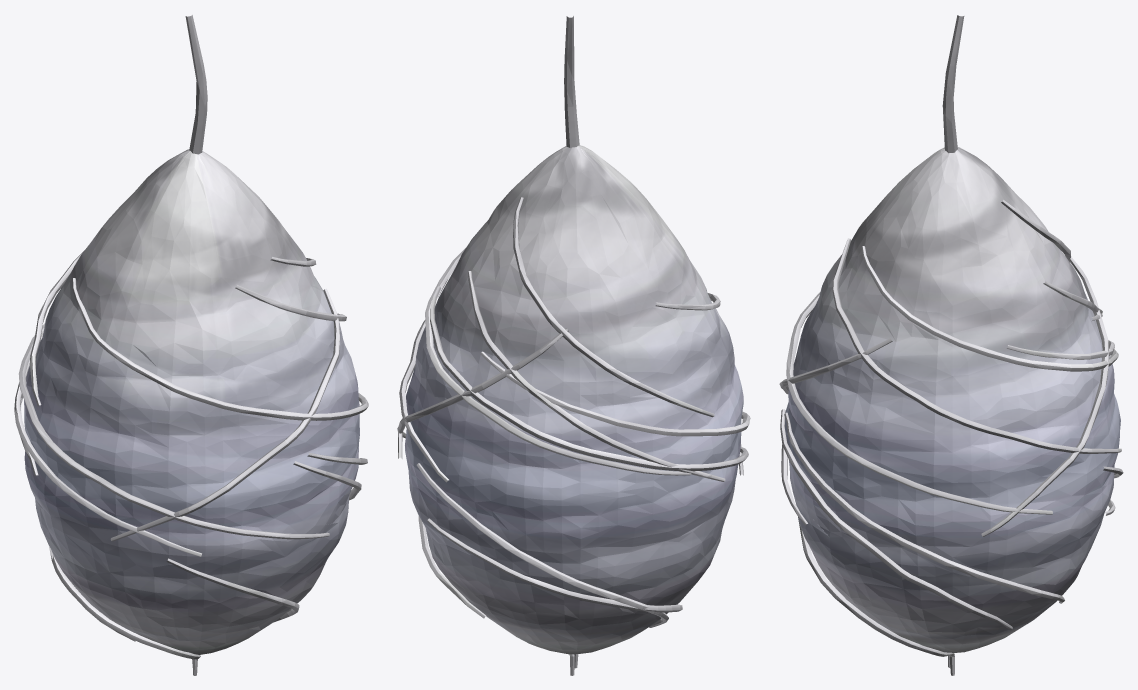
The model's file is casulo_v01.glb.
3 views of the same model, side by side, from view 1: azimuth 30°, elevation 25°; view 2: azimuth 150°, elevation 25°; view 3: azimuth 270°, elevation 25° (orthographic).
Parts seen in each view (by area): view 1: casulo; view 2: casulo; view 3: casulo.
Boxes of the visible parts, x1=… form: casulo: x1=14, y1=15, x2=368, y2=675; casulo: x1=397, y1=16, x2=750, y2=675; casulo: x1=779, y1=15, x2=1123, y2=675.
Bounding box in the file's own units: 0.8584 × 1.77 × 0.837.
Materials: 1 (1 with a texture image).
